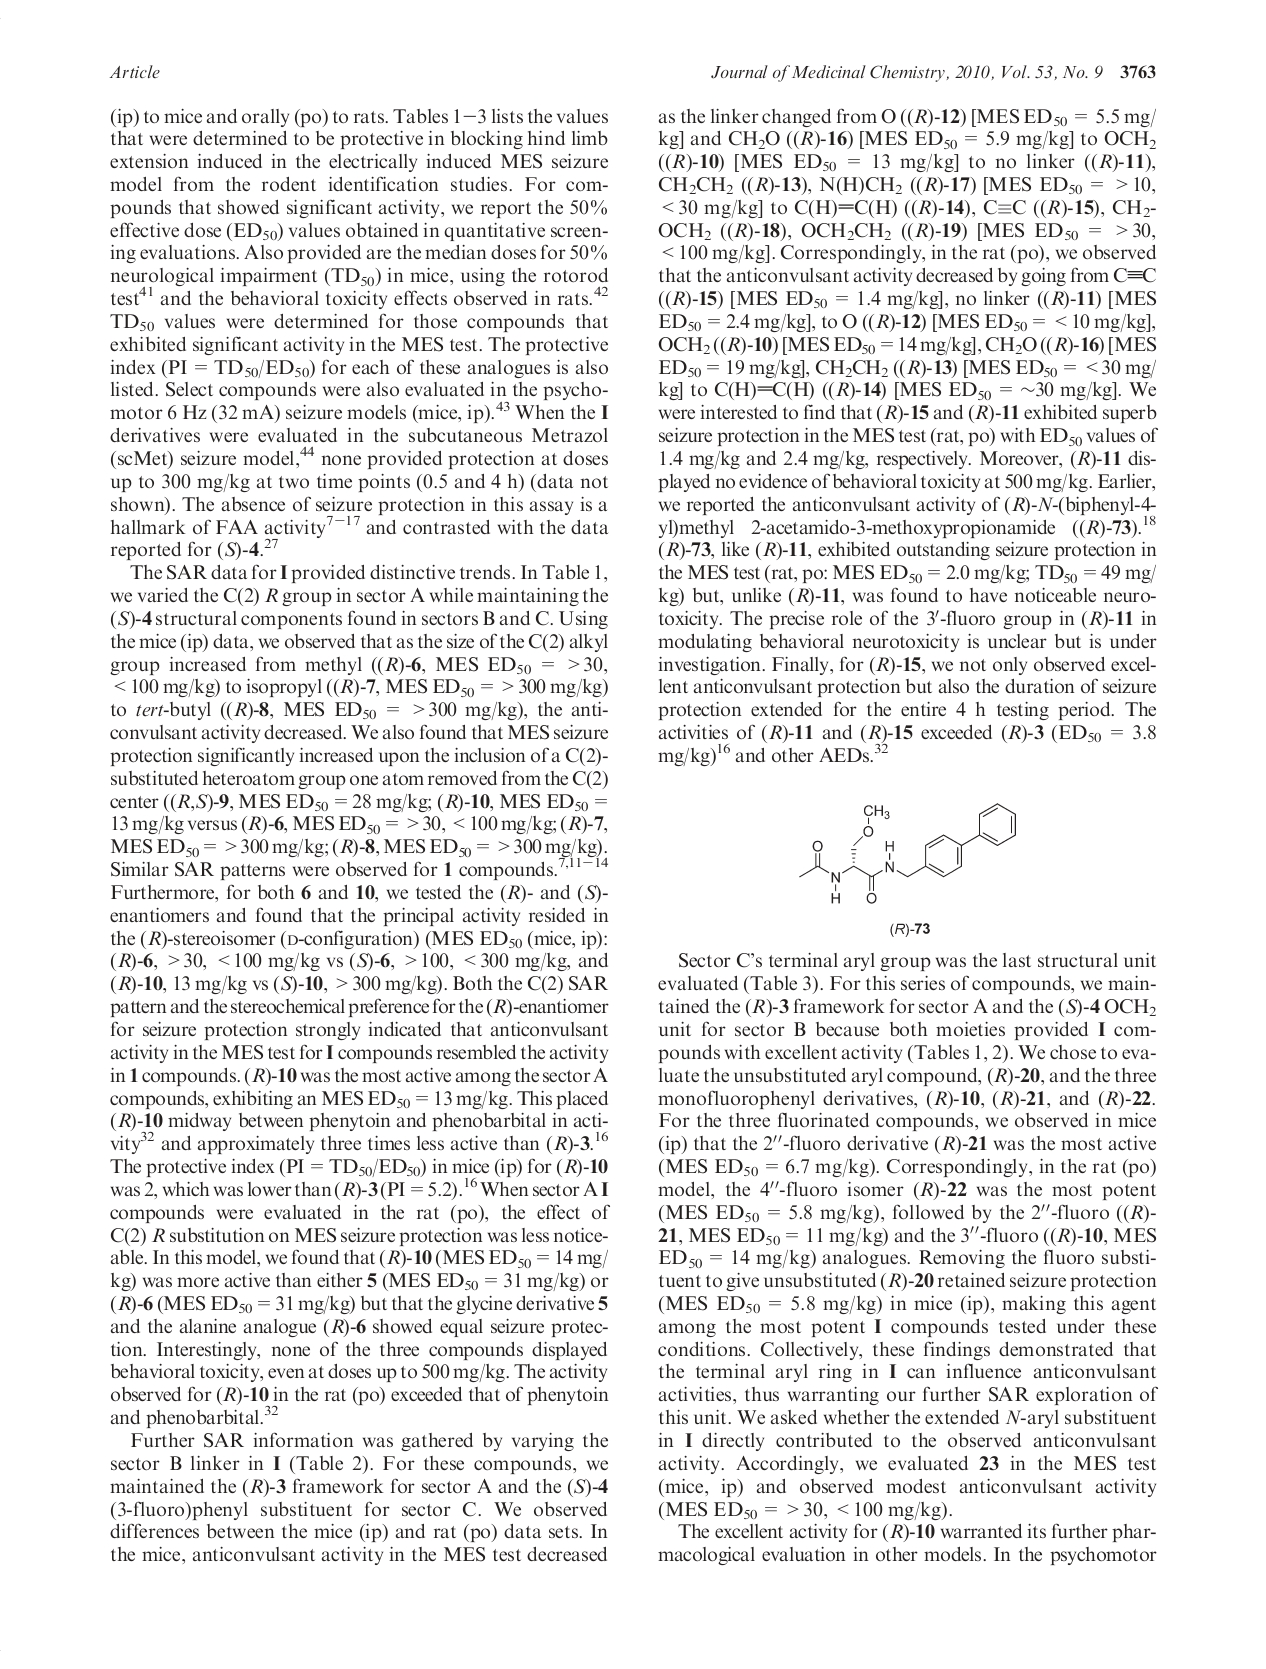exist_molecular: (797, 795, 1020, 906)
